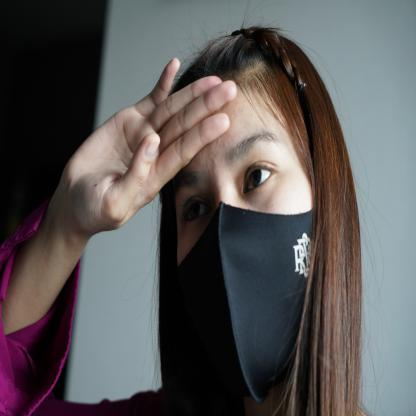Sick: (54, 57, 247, 238)
